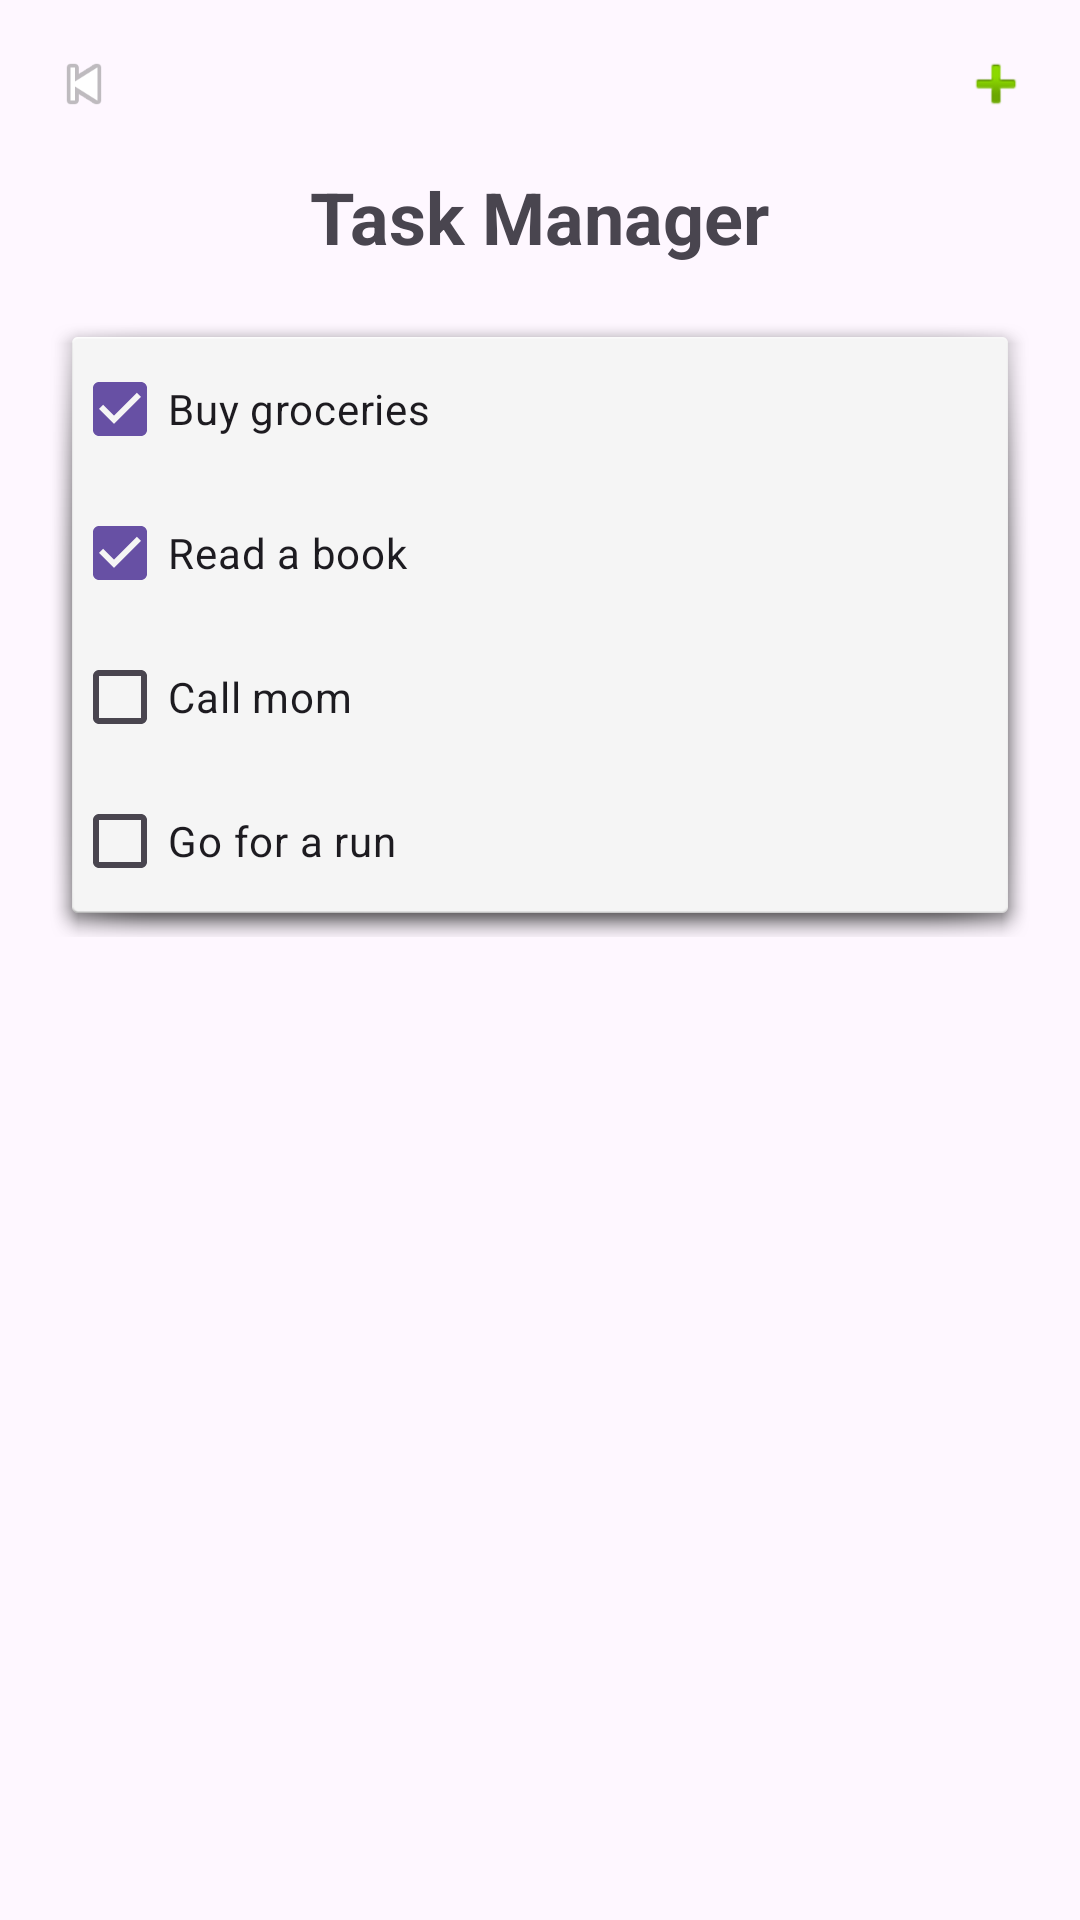

Icon bounding boxes for this 1080px x 1920px phone screenshot, format (x1, y1, x2, y2):
Add Task: (975, 64, 1017, 104)
Back: (67, 64, 101, 104)
